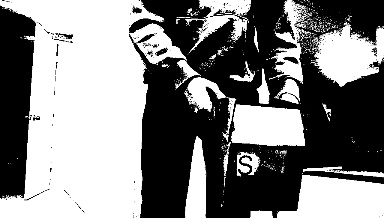S: (237, 154, 255, 174)
